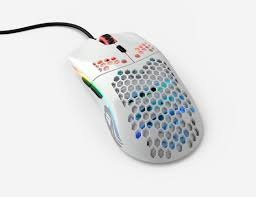mouse: (68, 26, 208, 166)
